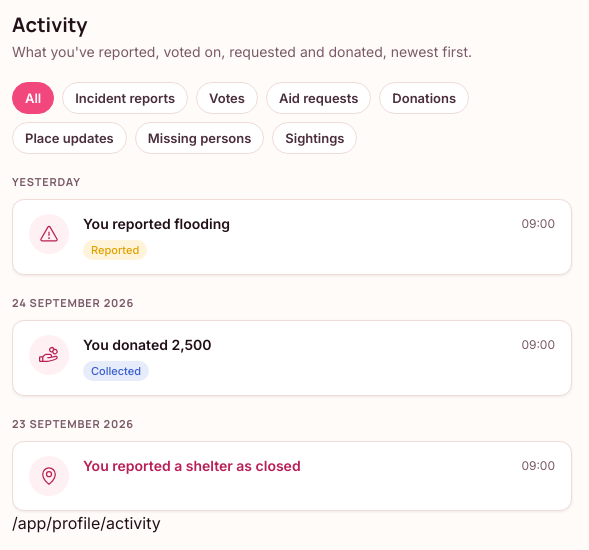
Test: ActivityPage › filtering › asks the server for just that kind, and keeps the choice in the URL
The image size is (589, 550).
Expected: the text "You reported flooding" is shown, [83, 214, 230, 232]
Click the button "Donations".
click(424, 98)  # box [379, 82, 469, 114]
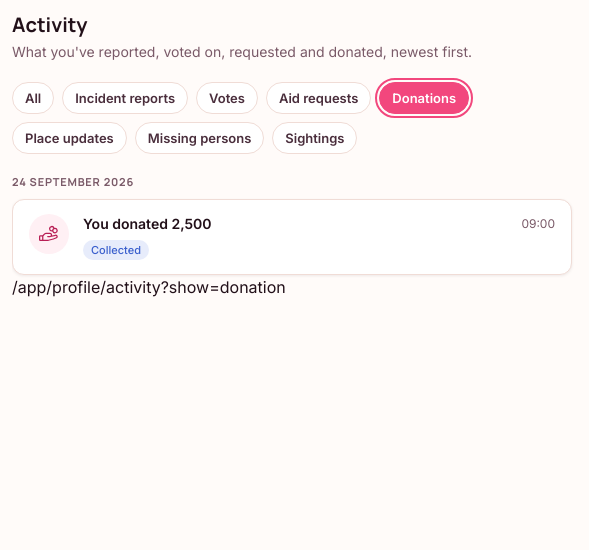
Expected: the text "You donated 2,500" is shown, [83, 214, 212, 232]
Now the text "You reported flooding" is gone
Now the text with test id "where" reads "/app/profile/activity?show=donation", box [12, 277, 286, 297]
